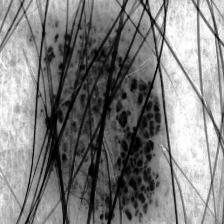Benign Marking or Mole: (28, 20, 162, 224)
